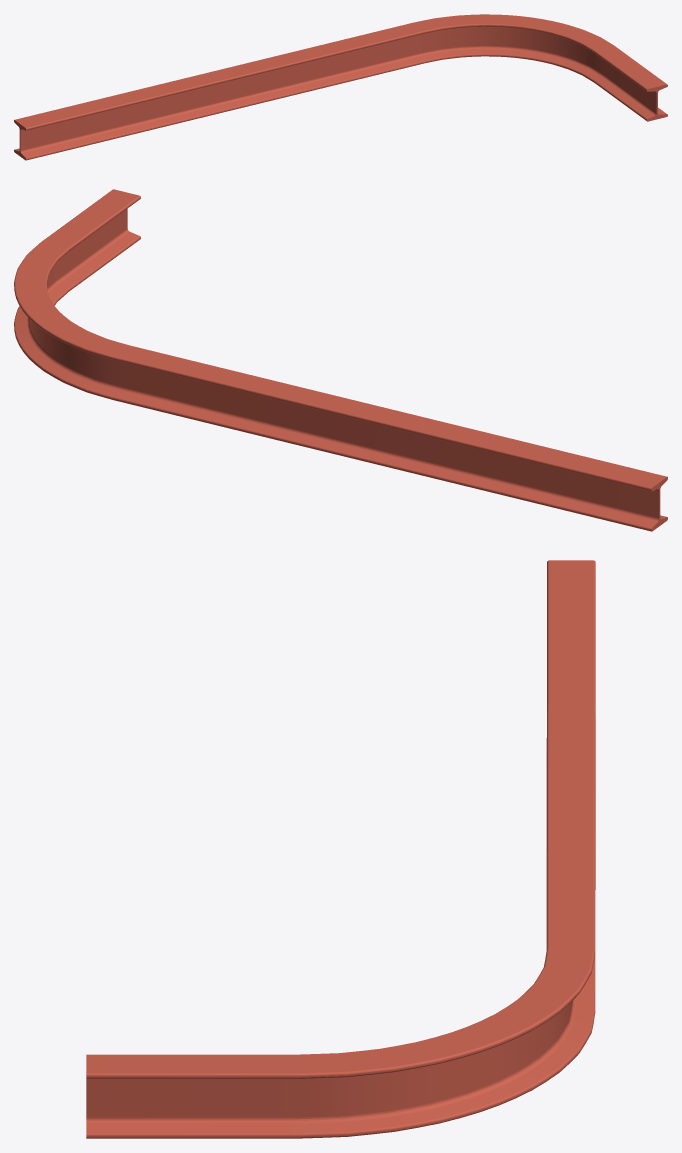
File: H-Profile_Inter_Corner_Gap_1800.glb
3 views of the same model, one above another, from view 1: azimuth 30°, elevation 25°; view 2: azimuth 150°, elevation 25°; view 3: azimuth 270°, elevation 25° (orthographic). The views are drawn at different scales.
Parts seen in each view (by area): view 1: H_Profile_J_1; view 2: H_Profile_J_1; view 3: H_Profile_J_1.
Boxes of the visible parts, x1,y1,x2,y2 form: H_Profile_J_1: (14,14,667,160); H_Profile_J_1: (14,189,667,531); H_Profile_J_1: (86,560,595,1138).
Bounding box in the file's own units: 1696 × 100 × 711.
